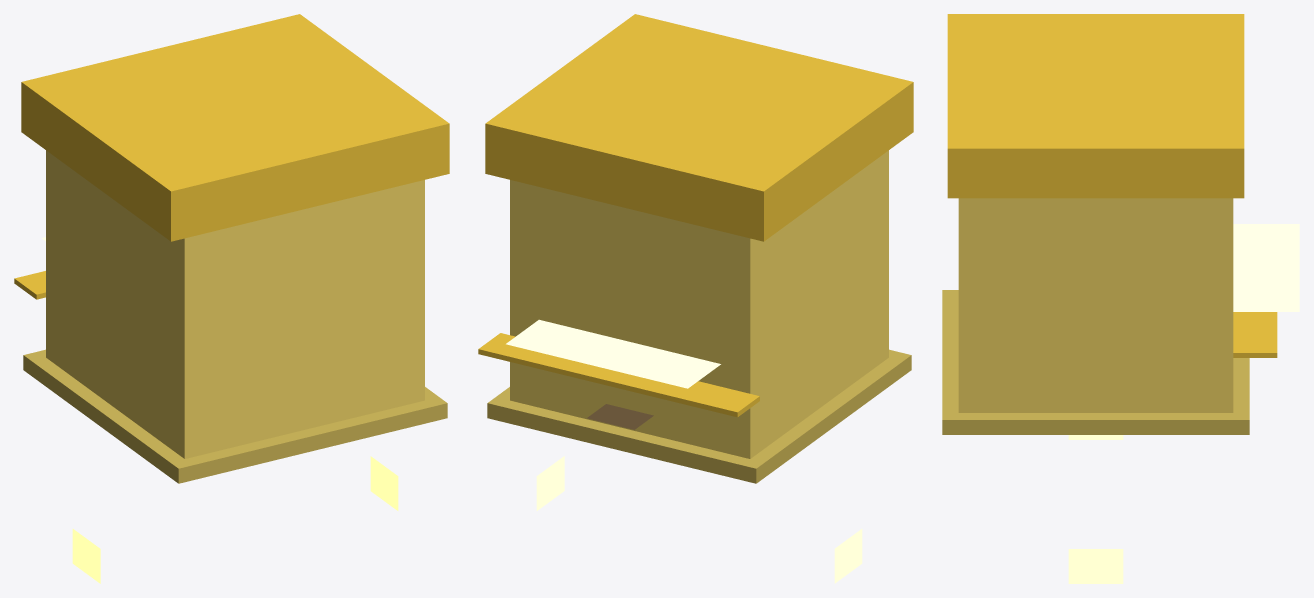
Rendered from coffee_shop.glb.
3 renders of one model, left to right at view 1: azimuth 30°, elevation 25°; view 2: azimuth 150°, elevation 25°; view 3: azimuth 270°, elevation 25°, orthographic.
Parts seen in each view (by area): view 1: coffee_shop; view 2: coffee_shop; view 3: coffee_shop.
Boxes of the visible parts, x1,y1,x2,y2 form: coffee_shop: (14,14,449,583); coffee_shop: (478,14,913,583); coffee_shop: (942,14,1299,583).
Bounding box in the file's own units: 3.1 × 4.33 × 3.25.
